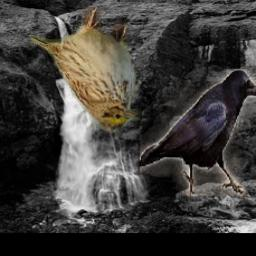Crow: (140, 69, 256, 196)
Sparrow: (30, 8, 142, 134)
